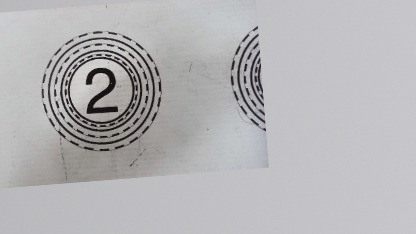2r: (34, 26, 166, 156)
